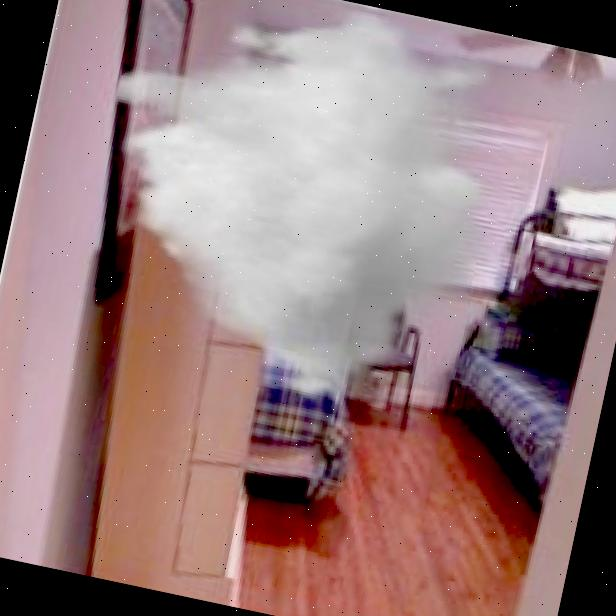smoke: (59, 0, 536, 438)
